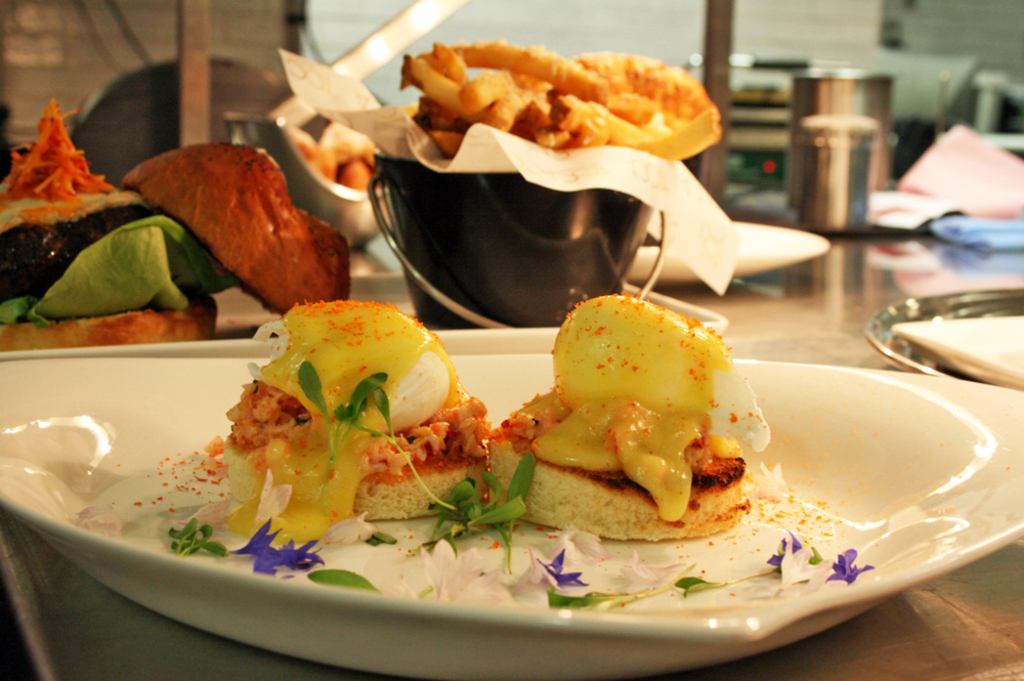French fries: (371, 37, 702, 144)
